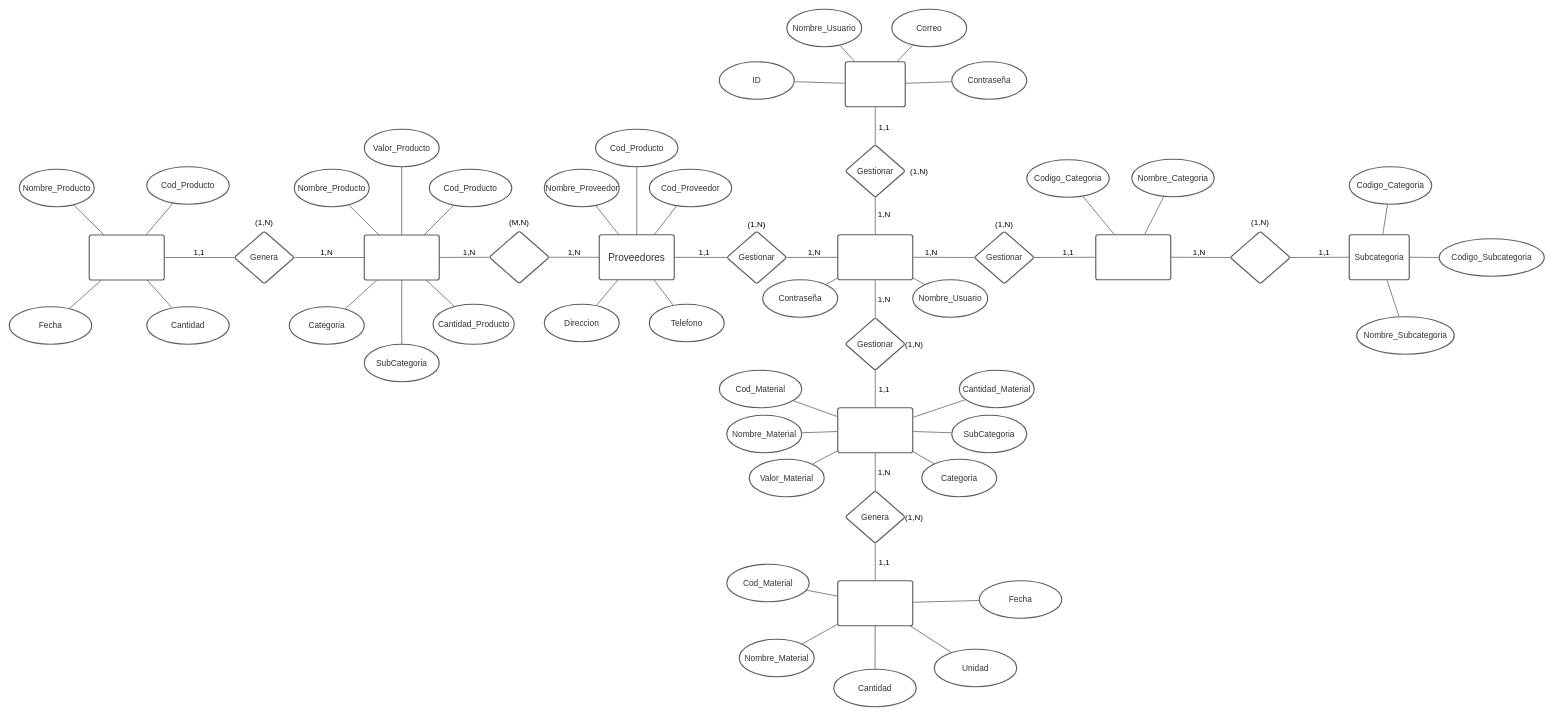
This 1554x716 diagram has some shape labels left out. Here are the shapes that lost their labels. From the top down, the box of each, then its label:
(844, 61, 906, 107): Usuarios
(88, 234, 165, 280): Salida del Producto
(363, 234, 440, 280): Productos
(488, 230, 550, 284): Suministra
(837, 234, 913, 280): Administrador
(1095, 234, 1171, 280): Categorias
(1229, 230, 1291, 284): Se Compone
(837, 407, 913, 453): Materiales
(837, 580, 913, 626): Entrada del materiales
